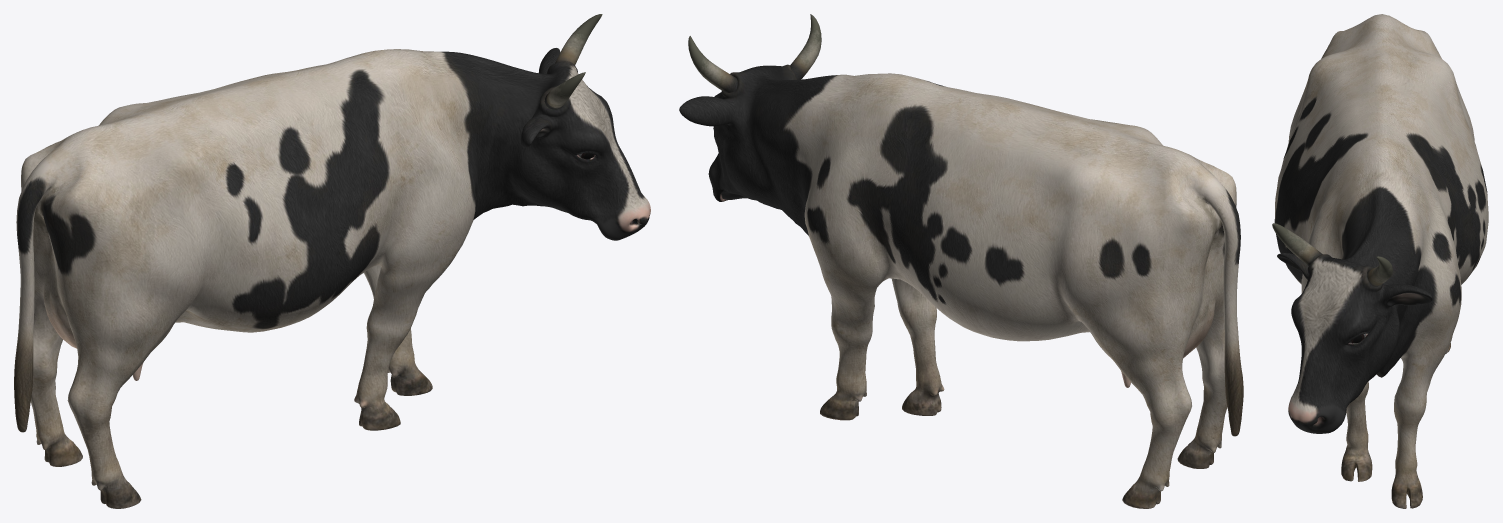
Rendered from super_cow.obj.
The picture shows the model from 3 angles, left to right: view 1: azimuth 30°, elevation 25°; view 2: azimuth 150°, elevation 25°; view 3: azimuth 270°, elevation 25°; orthographic projection. The views are drawn at different scales.
Visible parts, largest first — view 1: cow_1_Mesh_0_001; view 2: cow_1_Mesh_0_001; view 3: cow_1_Mesh_0_001.
Part boxes in pixels (x1=…): cow_1_Mesh_0_001: x1=14, y1=14, x2=650, y2=508; cow_1_Mesh_0_001: x1=679, y1=14, x2=1243, y2=508; cow_1_Mesh_0_001: x1=1272, y1=14, x2=1488, y2=508.
Size of the model in its own units: 8.24 by 4.72 by 2.76.
